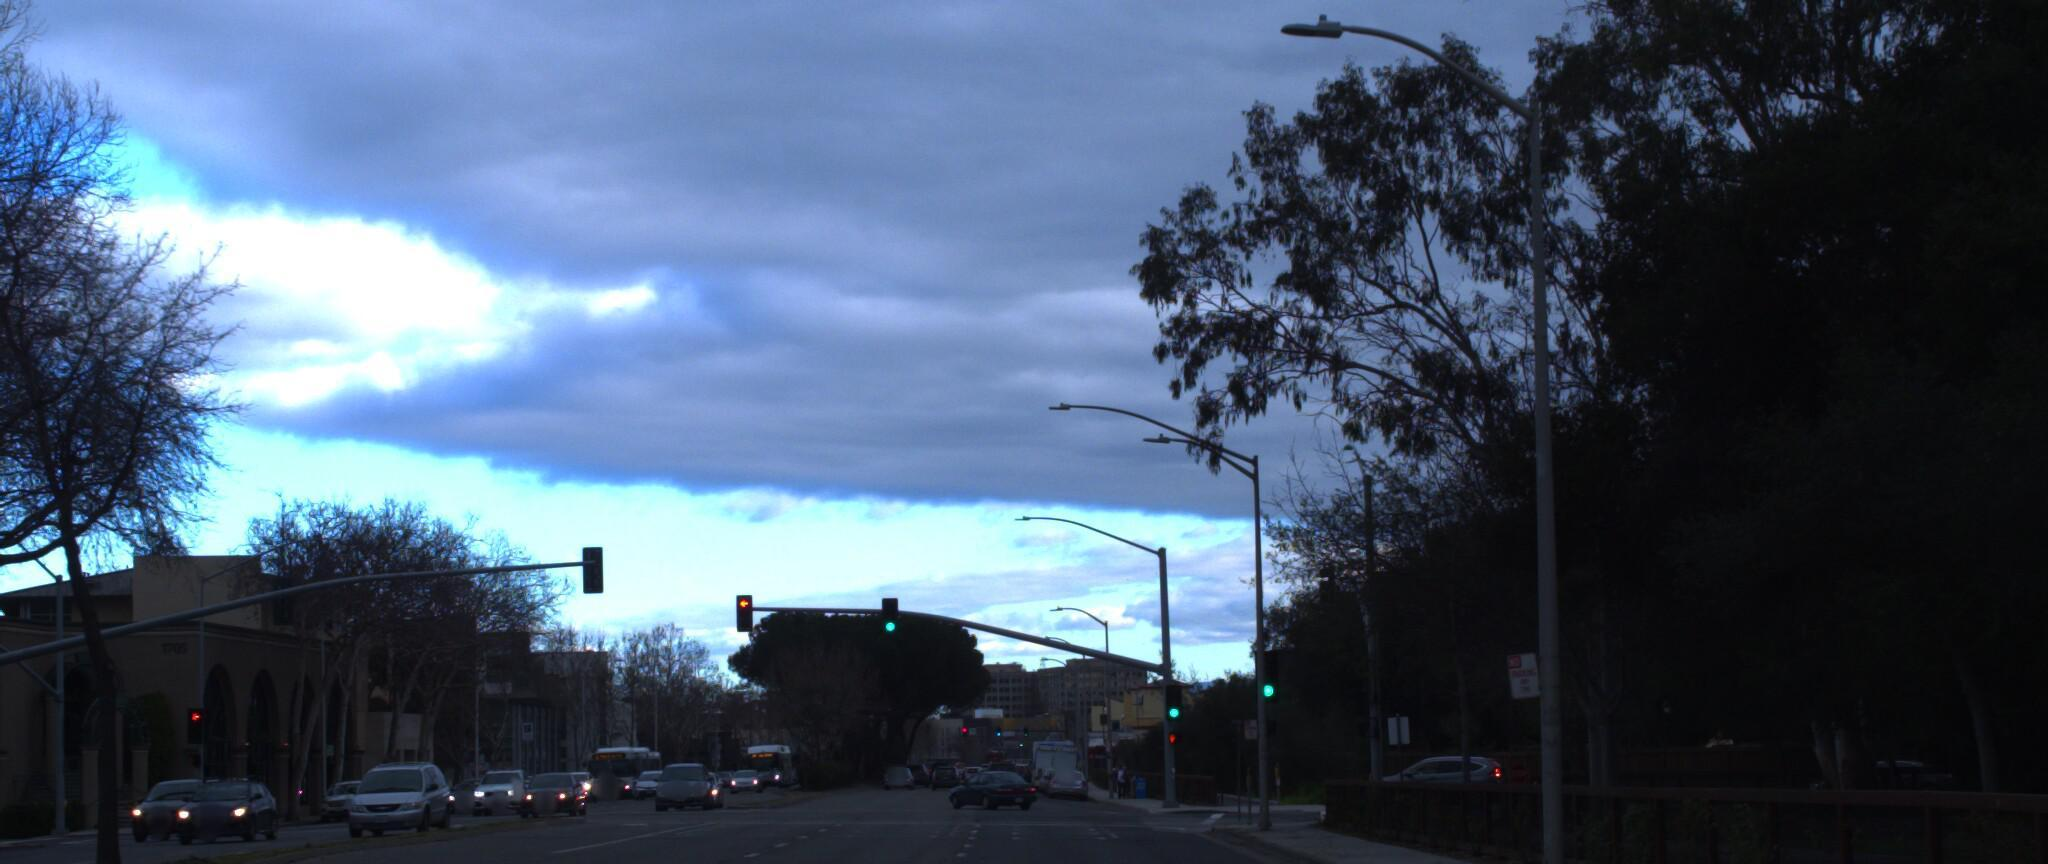car: (340, 740, 457, 824), (166, 764, 281, 839)
